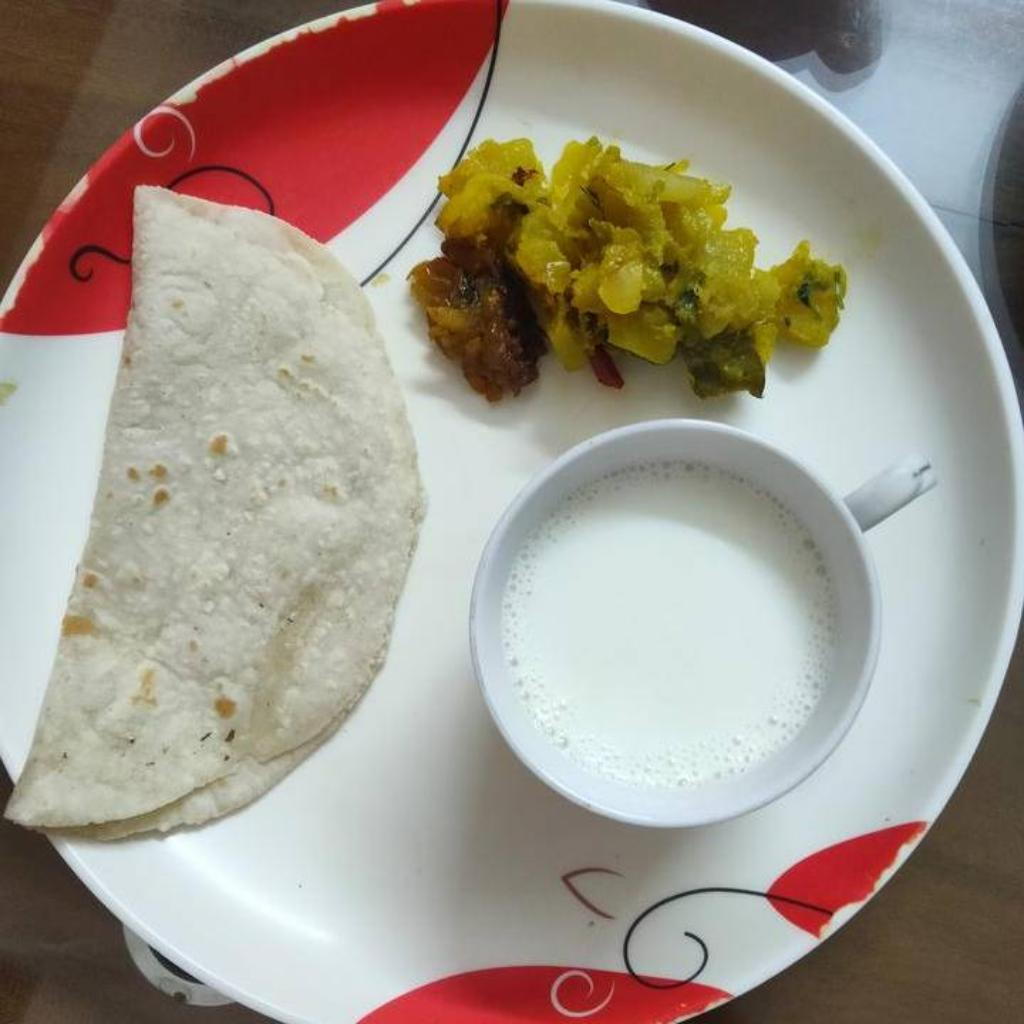korola-vaji: (402, 136, 859, 404)
milk: (501, 460, 836, 788)
ruti: (2, 186, 430, 841)
